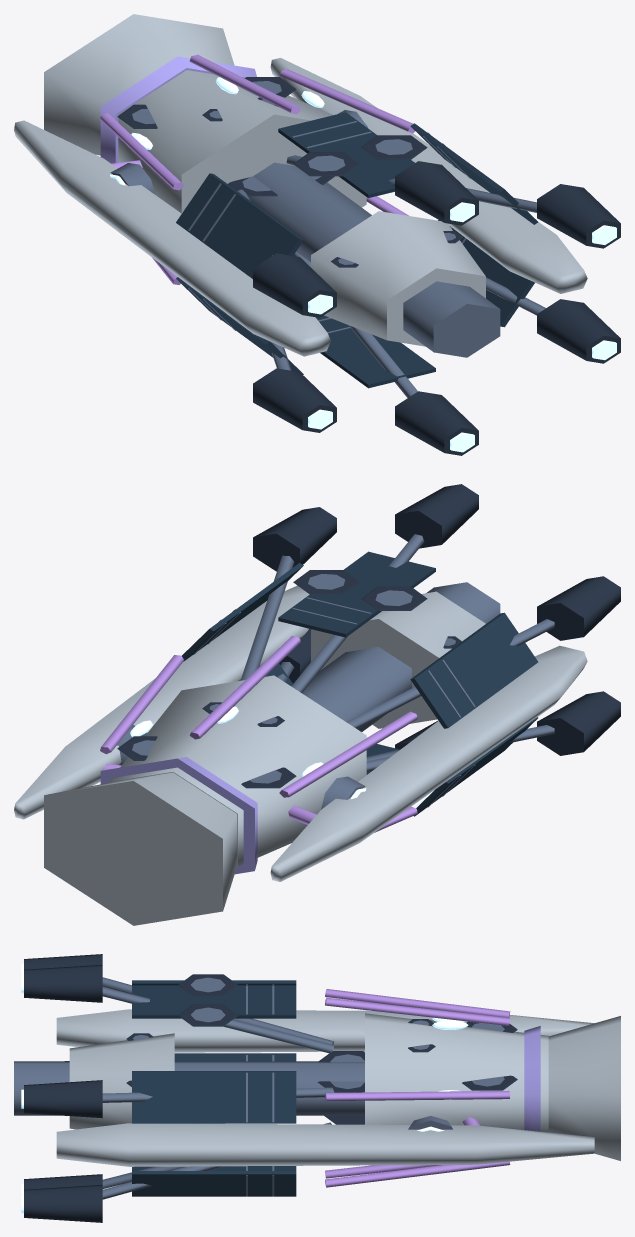
Rendered from cryogenic_hydrocarbon--patrol_corvette--lod1.glb.
The picture shows the model from 3 angles, top to bottom: view 1: azimuth 30°, elevation 25°; view 2: azimuth 150°, elevation 25°; view 3: azimuth 270°, elevation 25°; orthographic projection. The views are drawn at different scales.
Parts seen in each view (by area): view 1: split_guard_lance_57, cold_habitat_lantern_2, protected_drive_root_61, forward_ice_cap_3, thermal_isolation_spine_1, split_guard_lance_59, heat_rejection_fin_49, heat_rejection_fin_9, heat_rejection_fin_33, isolated_hot_drive_39, isolated_hot_drive_15, isolated_hot_drive_23 (+15 smaller); view 2: forward_ice_cap_3, cold_habitat_lantern_2, split_guard_lance_57, split_guard_lance_59, protected_drive_root_61, heat_rejection_fin_49, thermal_isolation_spine_1, heat_rejection_fin_9, isolated_hot_drive_47, isolated_hot_drive_7, isolated_hot_drive_39, isolated_hot_drive_15 (+12 smaller); view 3: split_guard_lance_59, cold_habitat_lantern_2, split_guard_lance_57, forward_ice_cap_3, heat_rejection_fin_17, thermal_isolation_spine_1, protected_drive_root_61, heat_rejection_fin_9, heat_rejection_fin_25, isolated_hot_drive_15, isolated_hot_drive_7, isolated_hot_drive_23 (+19 smaller).
Boxes of the visible parts, x1,y1,x2,y2 form: split_guard_lance_57: (14,120,330,356); cold_habitat_lantern_2: (118,70,366,213); protected_drive_root_61: (311,211,485,346); forward_ice_cap_3: (44,14,234,155); thermal_isolation_spine_1: (249,162,500,357); split_guard_lance_59: (270,58,587,293); heat_rejection_fin_49: (176,173,303,278); heat_rejection_fin_9: (278,112,414,197); heat_rejection_fin_33: (316,315,435,388); isolated_hot_drive_39: (253,368,336,432); isolated_hot_drive_15: (537,184,620,248); isolated_hot_drive_23: (537,299,620,363); forward_ice_cap_3: (44,772,237,925); cold_habitat_lantern_2: (108,675,366,866); split_guard_lance_57: (270,645,587,881); split_guard_lance_59: (14,585,309,819); protected_drive_root_61: (311,591,485,728); heat_rejection_fin_49: (410,612,538,728); thermal_isolation_spine_1: (302,582,500,731); heat_rejection_fin_9: (278,551,435,637); isolated_hot_drive_47: (537,576,620,640); isolated_hot_drive_7: (395,484,478,548); isolated_hot_drive_39: (537,691,620,755); isolated_hot_drive_15: (253,507,336,571); split_guard_lance_59: (56,1123,594,1166); cold_habitat_lantern_2: (365,1013,548,1132); split_guard_lance_57: (56,1009,593,1052); forward_ice_cap_3: (548,1016,620,1160); heat_rejection_fin_17: (132,1071,296,1123); thermal_isolation_spine_1: (14,1061,364,1115); protected_drive_root_61: (69,1033,174,1129); heat_rejection_fin_9: (132,985,296,1018); heat_rejection_fin_25: (132,1171,296,1196); isolated_hot_drive_15: (24,1080,102,1118); isolated_hot_drive_7: (24,964,102,1002); isolated_hot_drive_23: (24,1185,102,1222).
Bounding box in the file's own units: 142 × 110 × 248.
